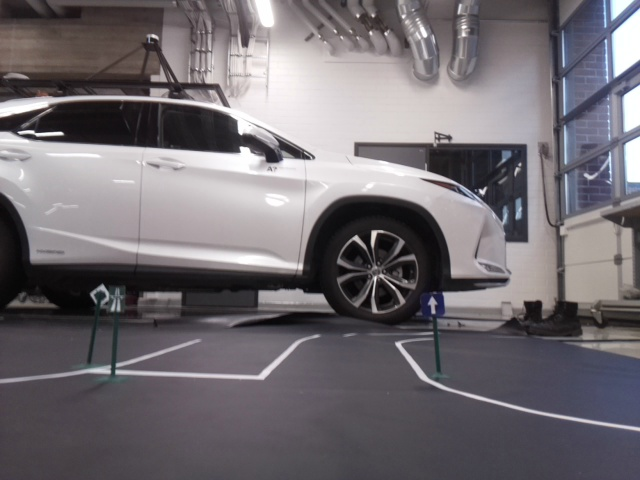OneWay: (422, 293, 446, 315)
